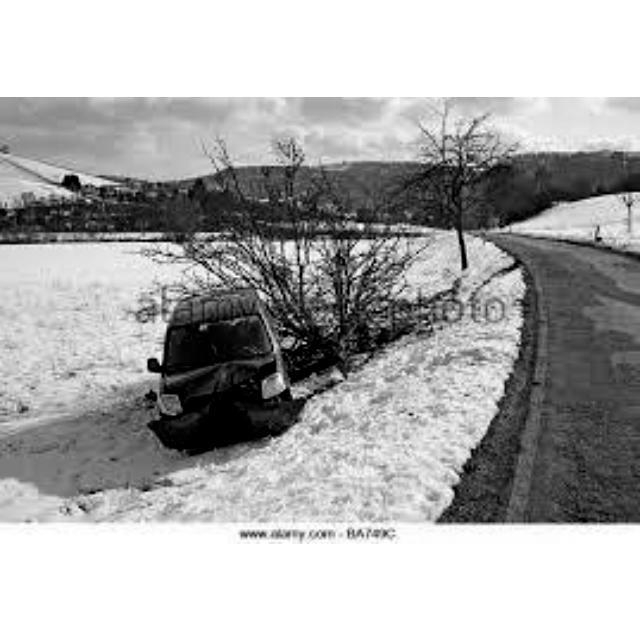bonnet-dent: (163, 358, 262, 391)
front-bumper-dent: (181, 396, 269, 424)
